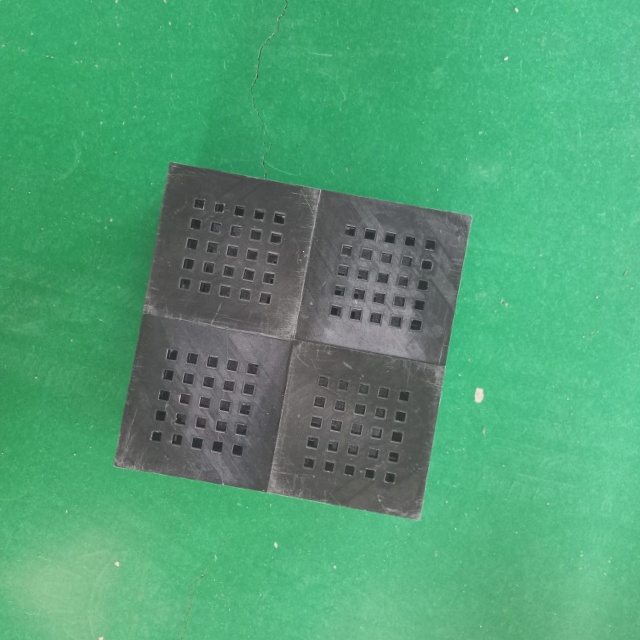pallet: (105, 154, 486, 533)
